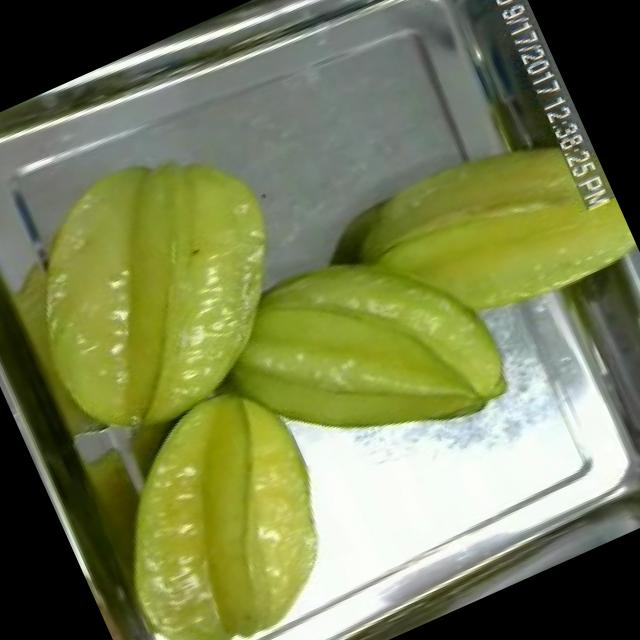fruit: (0, 107, 335, 478), (184, 196, 535, 510), (60, 360, 371, 640), (322, 101, 635, 378)
